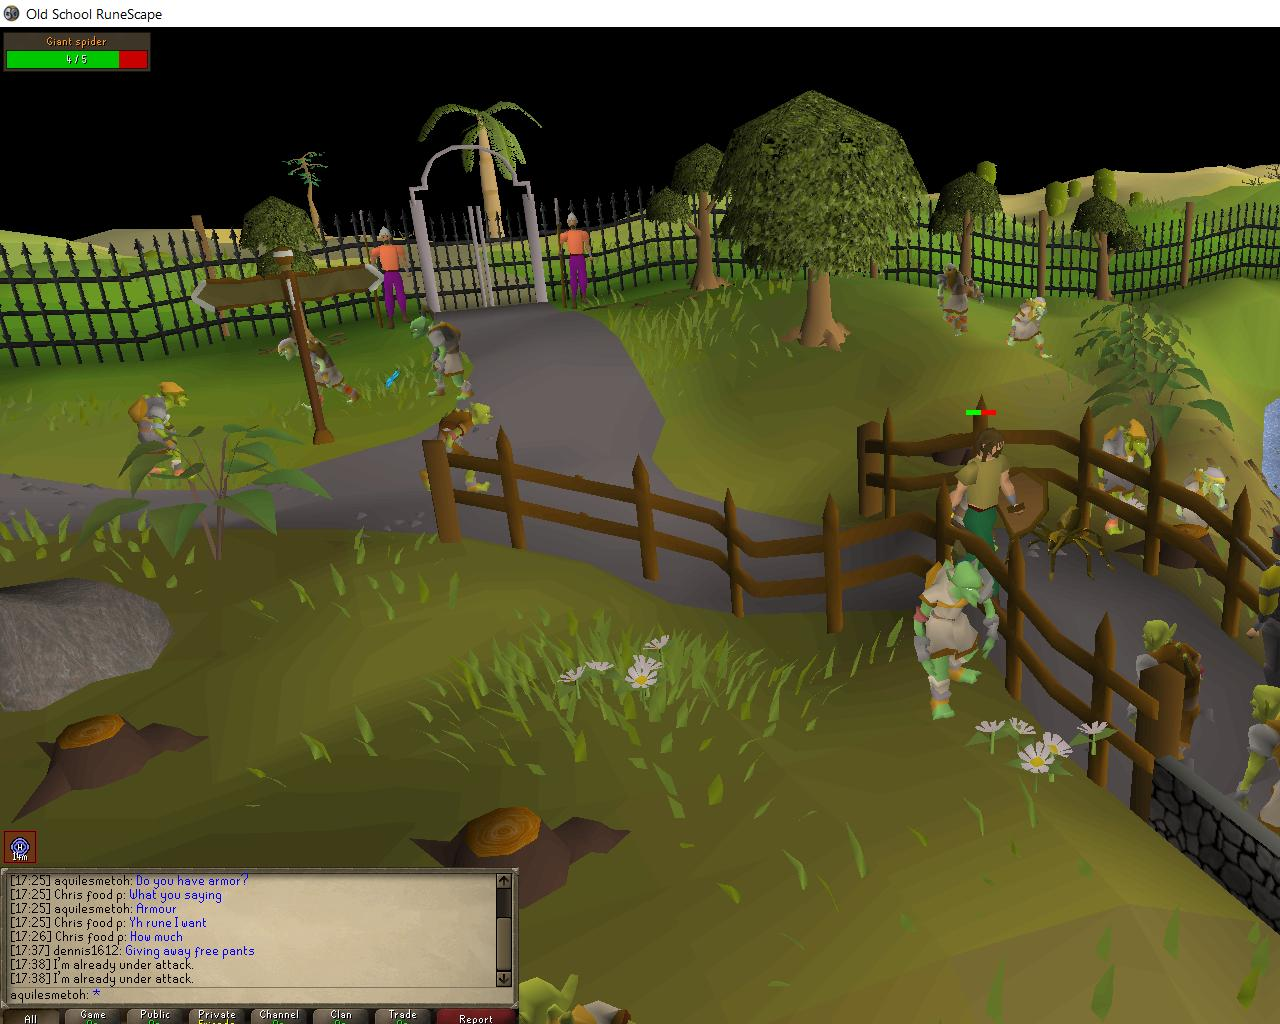Goblin: (911, 555, 1001, 722), (1124, 619, 1204, 757), (1092, 422, 1164, 537), (1232, 680, 1280, 850), (417, 402, 497, 501), (273, 333, 371, 413), (129, 383, 195, 479), (410, 313, 480, 401), (1173, 458, 1241, 536), (935, 260, 988, 338), (1006, 293, 1053, 362)
